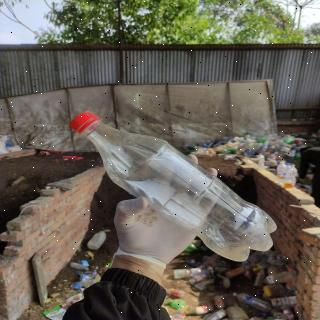Plastic-bottle: (64, 109, 282, 266)
